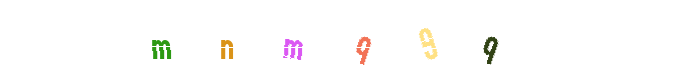9: (375, 0, 455, 80)
M: (128, 0, 208, 80), (264, 0, 344, 80)
N: (253, 0, 333, 80)
Q: (305, 0, 385, 80), (450, 0, 530, 80)
